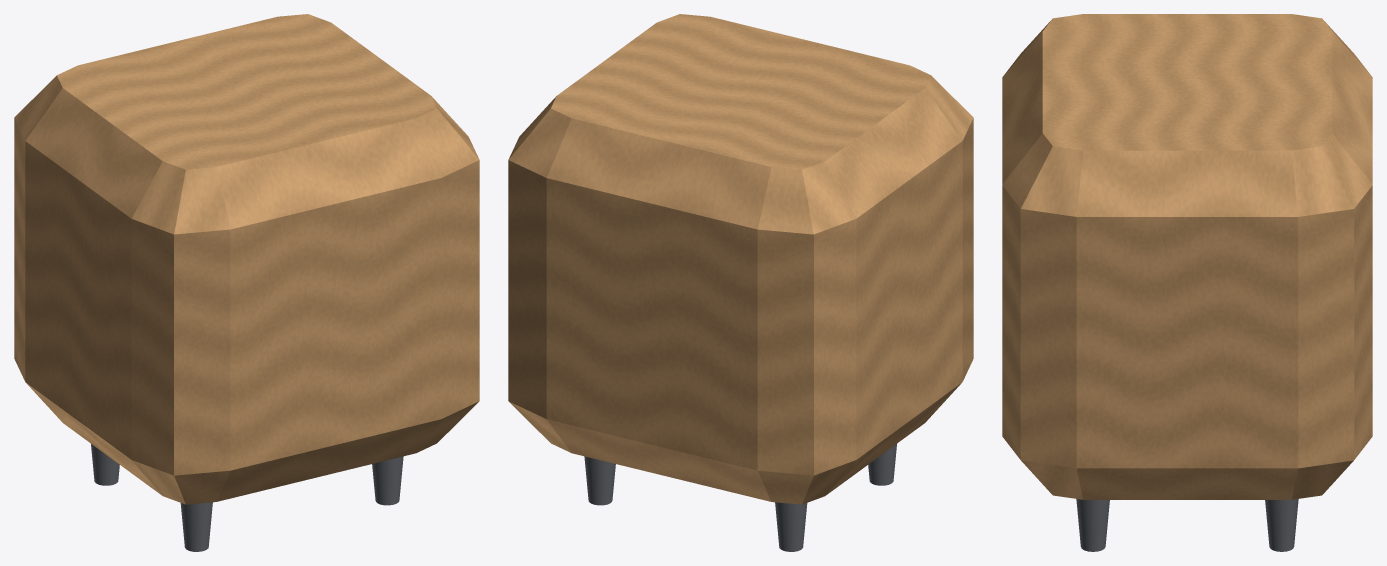
The model's file is nightstand_oak.glb.
3 renders of one model, left to right at view 1: azimuth 30°, elevation 25°; view 2: azimuth 150°, elevation 25°; view 3: azimuth 270°, elevation 25°, orthographic. The views are drawn at different scales.
Visible parts, largest first — view 1: nightstand_oak_woodOak, nightstand_oak_metalBlack; view 2: nightstand_oak_woodOak, nightstand_oak_metalBlack; view 3: nightstand_oak_woodOak, nightstand_oak_metalBlack.
Part boxes in pixels (bbox=[...]): nightstand_oak_woodOak: bbox=[14, 14, 479, 504]; nightstand_oak_metalBlack: bbox=[91, 444, 403, 551]; nightstand_oak_woodOak: bbox=[508, 14, 973, 504]; nightstand_oak_metalBlack: bbox=[584, 444, 896, 551]; nightstand_oak_woodOak: bbox=[1002, 14, 1372, 499]; nightstand_oak_metalBlack: bbox=[1076, 499, 1298, 551].
Size of what is drawn, in the model's own units: 0.46 by 0.52 by 0.42.
4 materials, 2 textured.
